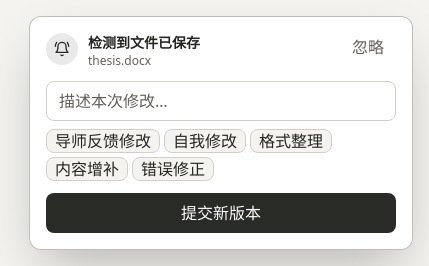
Test: EditLoopCard › clicking a quick tag fills the message input
This screenshot has width=429, height=266.
Click the button "导师反馈修改" at {"x": 103, "y": 141}, box [46,129,160,153]
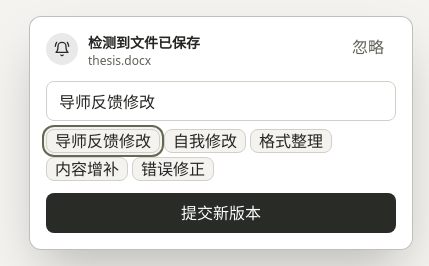
expect the field with placeholder "描述本次修改…" holds "导师反馈修改": met, box [46,81,396,121]
